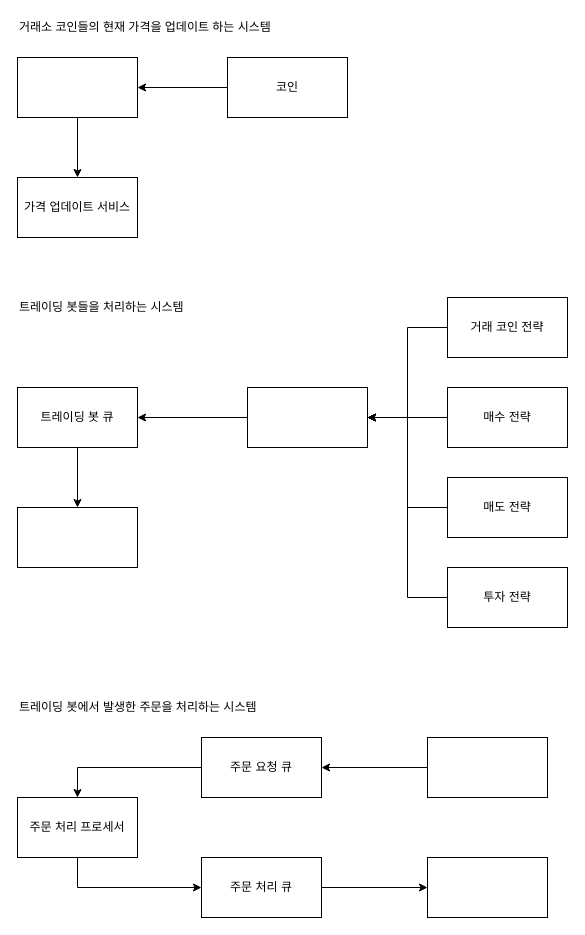
Image size: 585x935. Some labels were removed from this diagram. Here are the shapes that lost their labels. From the top down, the centre of each, then its label:
At (x=77, y=87): "거래소".
At (x=307, y=417): "트레이딩 봇".
At (x=77, y=537): "트레이딩 서비스".
At (x=487, y=767): "주문서".
At (x=487, y=887): "주문 결과".
